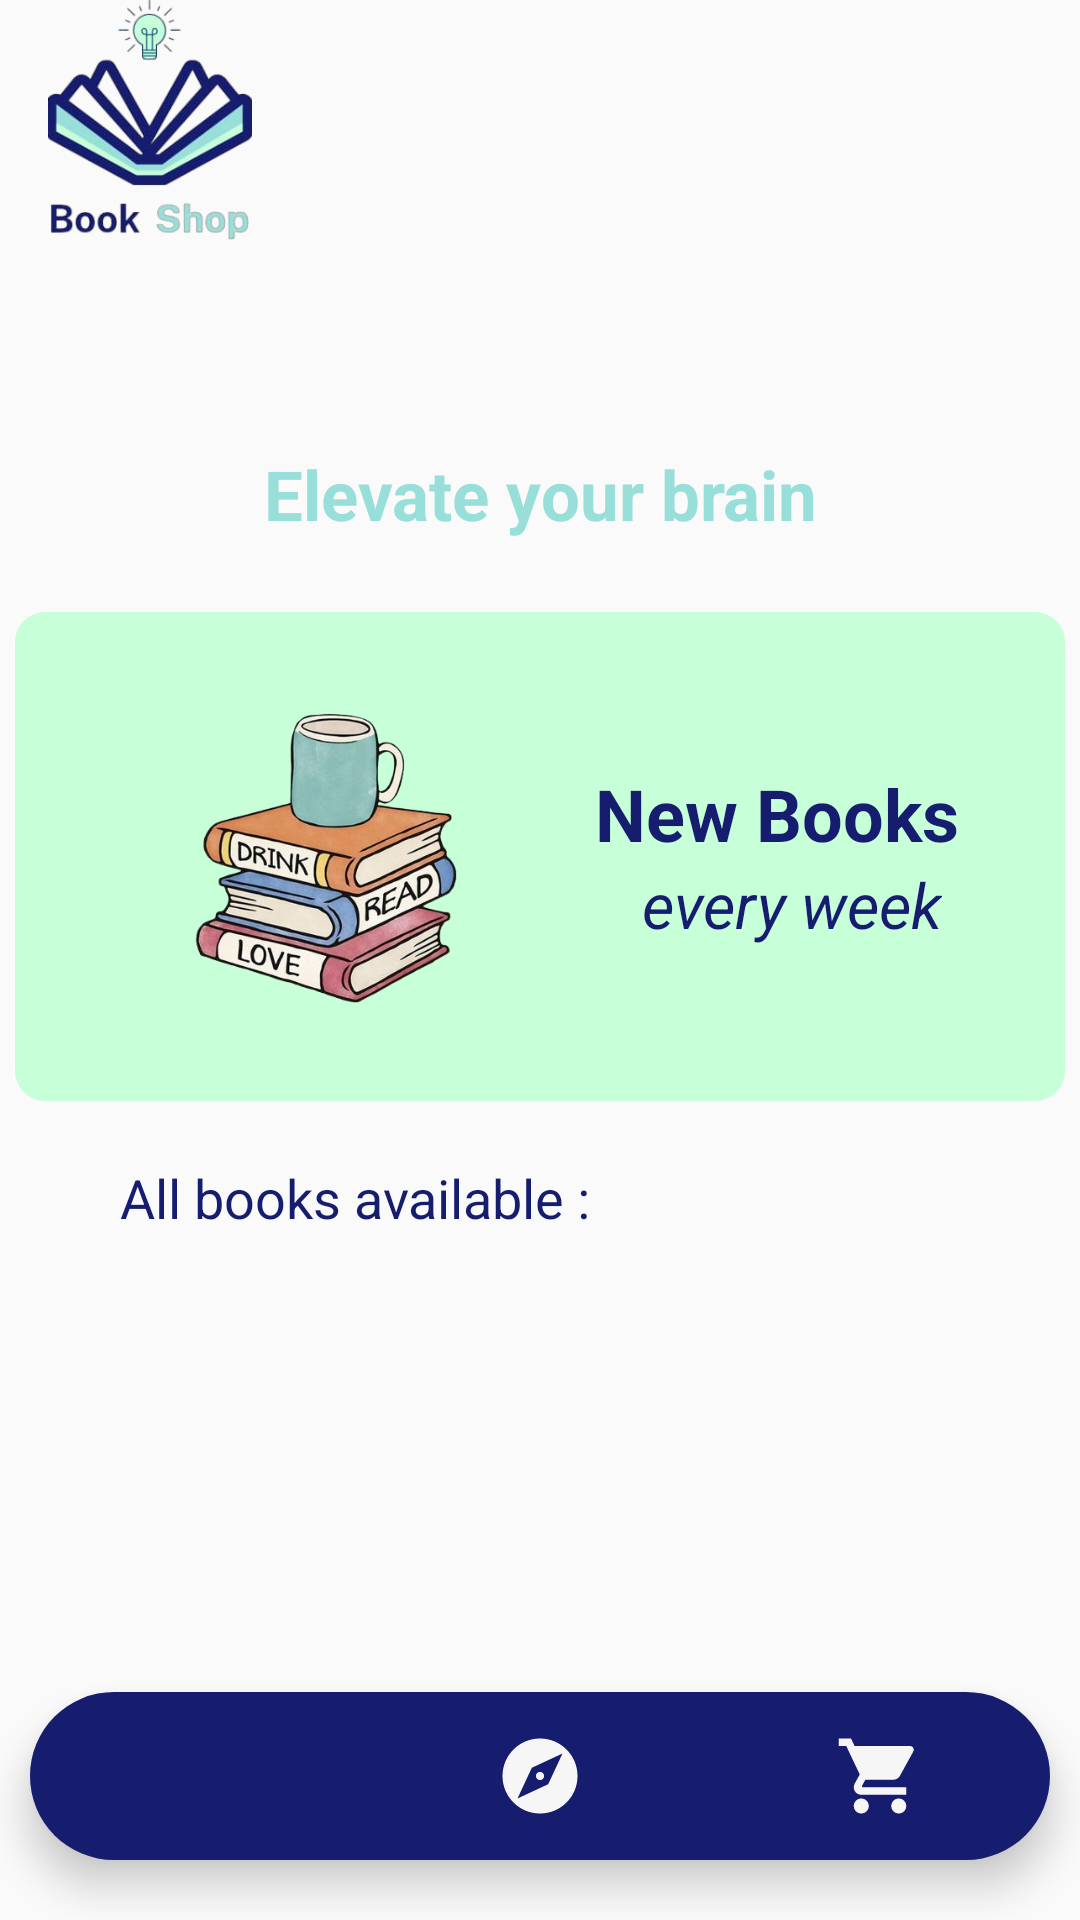

Where to tap for icons on this 1080*1920 app screen, as (x=x, y=y):
book illustration: (x=326, y=858)
